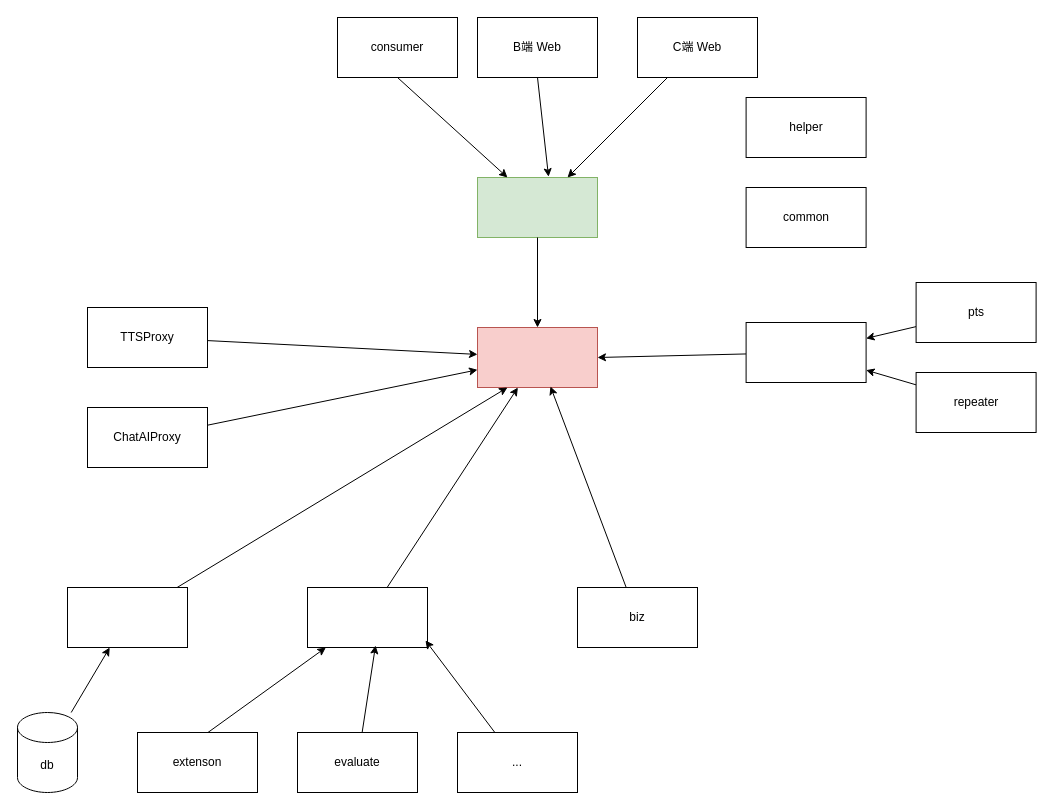
Some shapes in this 1054 by 810 pixel diagram are drawn without their labels. The centre of each missing label's shape, as x and y in pixels:
"ability" belongs at [367,617].
"Application" belongs at [537,207].
"core" belongs at [537,357].
"efficiency" belongs at [805,352].
"store" belongs at [127,617].
